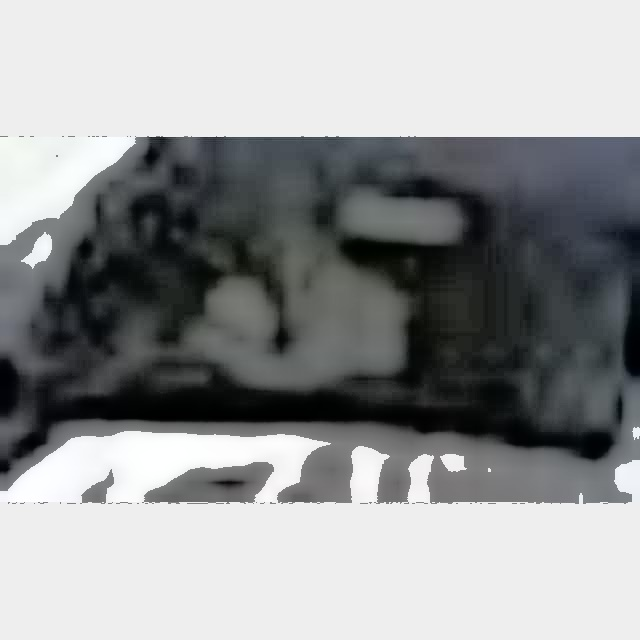pakai: (144, 202, 405, 385)
